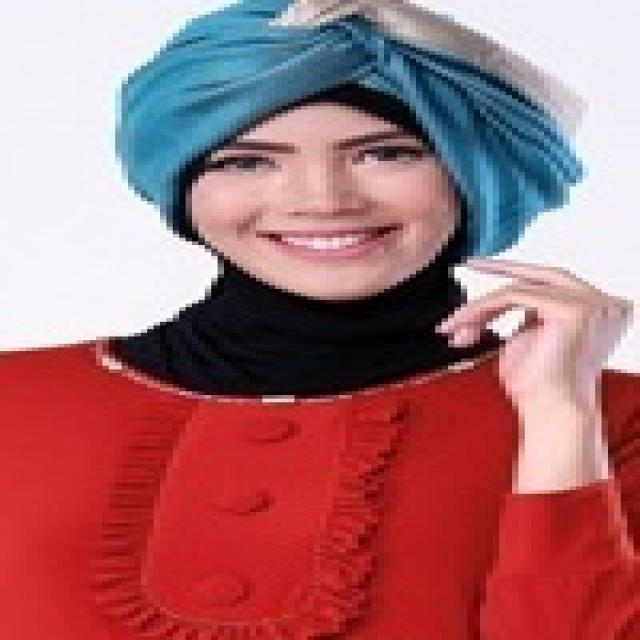head: (101, 6, 588, 311)
